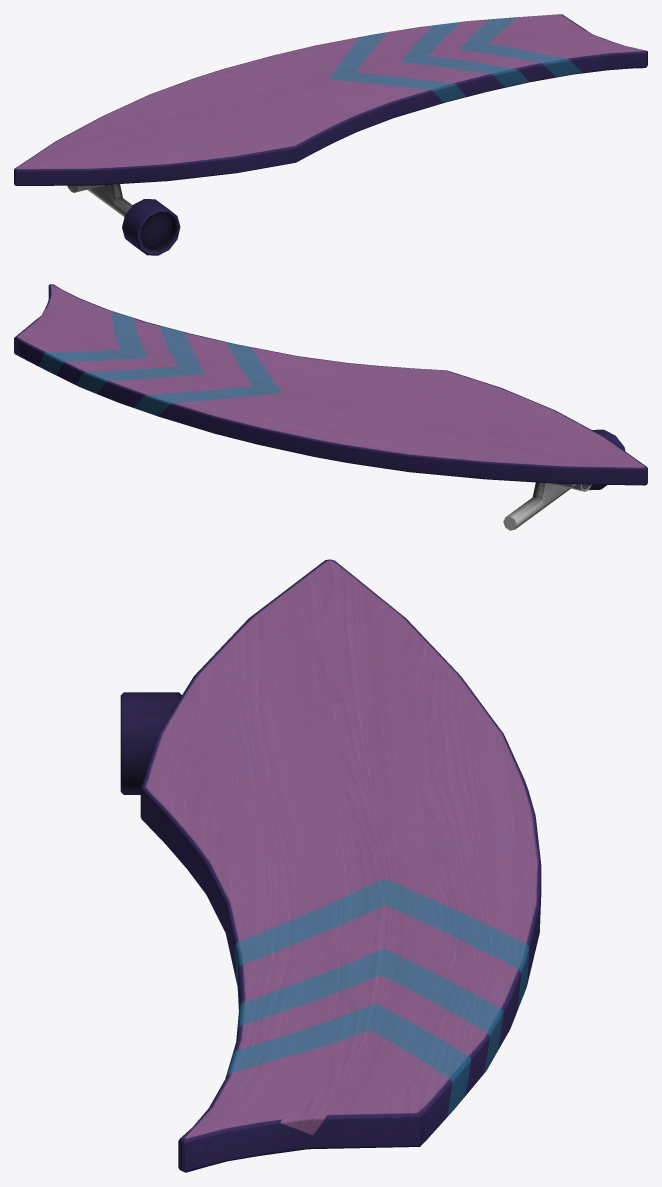
File: SkateBoard12.fbx
3 views of the same model, one above another, from view 1: azimuth 30°, elevation 25°; view 2: azimuth 150°, elevation 25°; view 3: azimuth 270°, elevation 25° (orthographic). The views are drawn at different scales.
Visible parts, largest first — view 1: Board, wheel, BoardBase; view 2: Board, BoardBase; view 3: Board, wheel.
Part boxes in pixels (x1,y1,x2,y2): Board: (14,14,647,185); wheel: (122,199,180,255); BoardBase: (67,184,132,216); Board: (14,284,647,485); BoardBase: (503,482,591,530); Board: (140,559,541,1172); wheel: (120,692,181,794).
Bounding box in the file's own units: 0.6858 × 0.078 × 0.2091.
